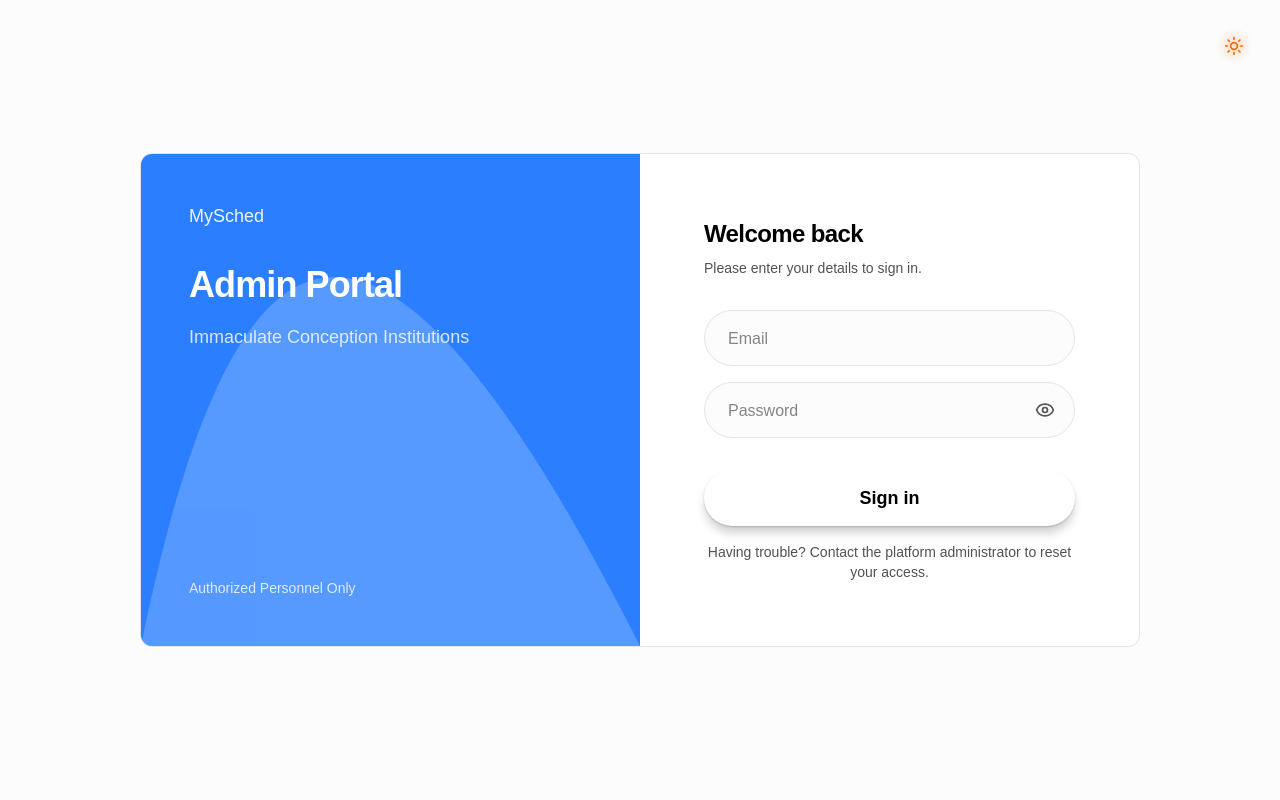
LoginPage › validates required fields before attempting sign in
Click the button "Sign in" at (890,498), box [704,470,1075,526]
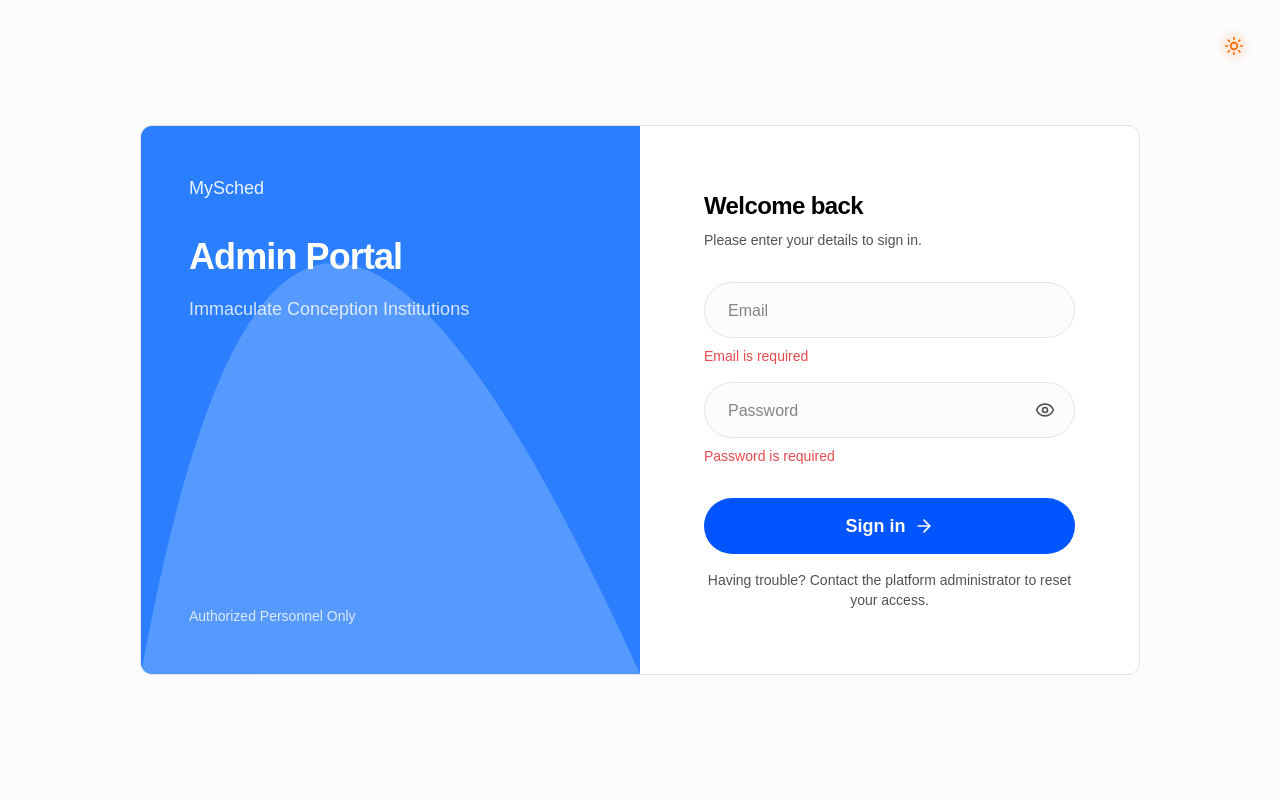
Expected: the text "Email is required" is shown, [704,348,808,364]
Expected: the text "Password is required" is shown, [704,448,835,464]
